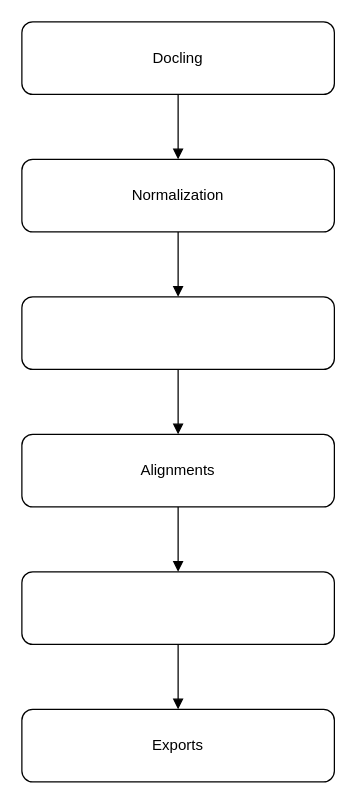
Image size: 356x804. Some labels were removed from this diagram. The centre of each missing label's shape, as x and y in pixels:
"Documents" goes at pixel 177 607.
"References" goes at pixel 177 332.
